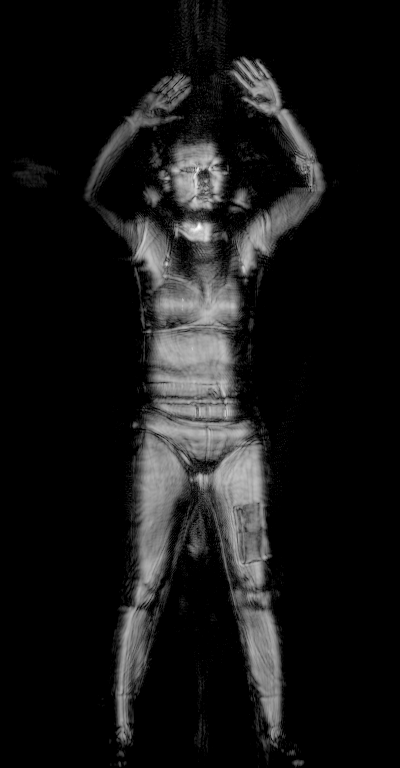head: (156, 134, 232, 219)
others: (225, 499, 274, 568), (290, 151, 319, 191)
person: (84, 56, 326, 768)
